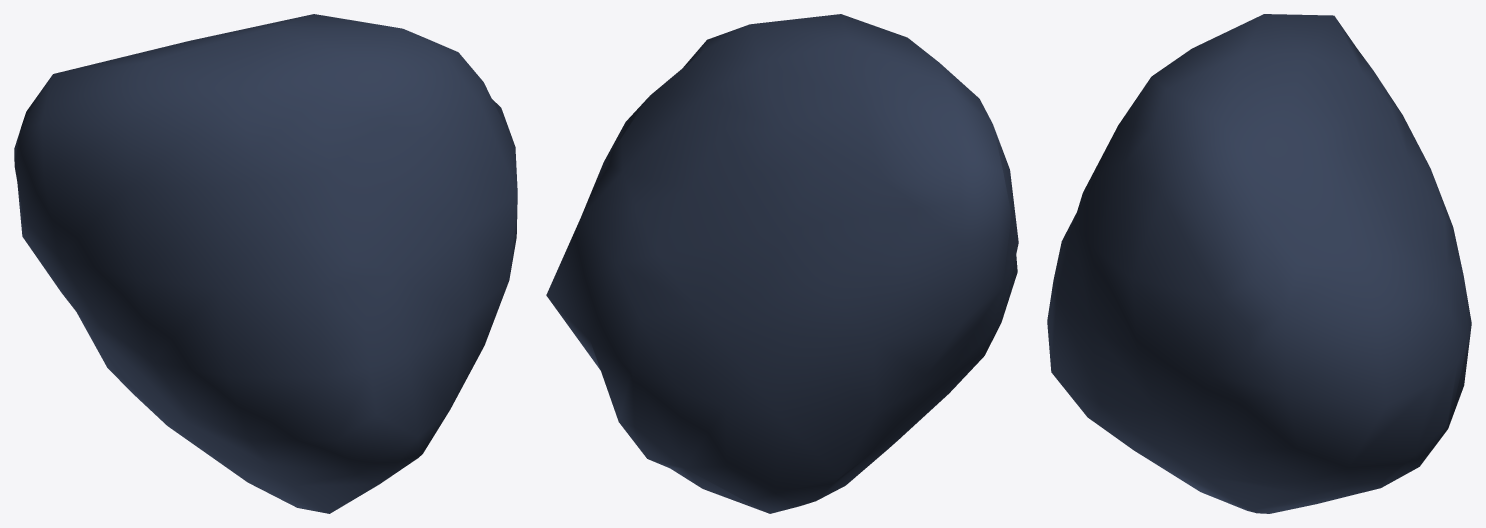
File: Rock_6.fbx
The picture shows the model from 3 angles, left to right: view 1: azimuth 30°, elevation 25°; view 2: azimuth 150°, elevation 25°; view 3: azimuth 270°, elevation 25°; orthographic projection. The views are drawn at different scales.
Parts seen in each view (by area): view 1: Rock 6; view 2: Rock 6; view 3: Rock 6.
Boxes of the visible parts, bbox=[...] form: Rock 6: bbox=[14, 14, 517, 513]; Rock 6: bbox=[546, 14, 1018, 513]; Rock 6: bbox=[1047, 14, 1471, 513].
Size of the model in its own units: 90.27 by 92.69 by 80.77.
